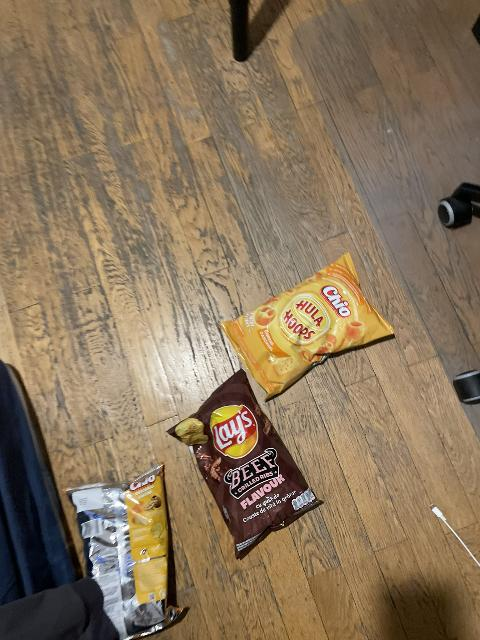Chio Cascaval 125g: (65, 461, 176, 637)
Chio Hula Hoops Cheese 70g: (218, 255, 393, 393)
Lays Beef Grilled Ribs 125g: (177, 370, 332, 553)
